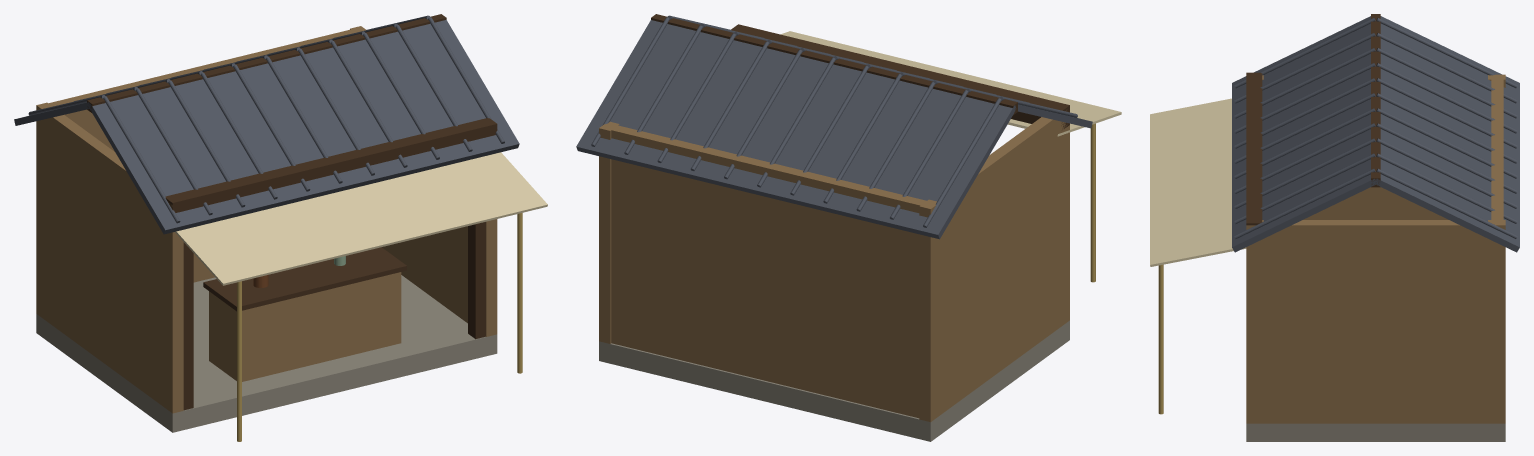
File: shopfront-fabric-awning.glb
3 renders of one model, left to right at view 1: azimuth 30°, elevation 25°; view 2: azimuth 150°, elevation 25°; view 3: azimuth 270°, elevation 25°, orthographic. The views are drawn at different scales.
Visible parts, largest first — view 1: roof_front, side_wall_L, awning, platform, counter, front_beam, side_wall_R, counter_top, back_wall, ridge, post_R, post_L (+14 smaller); view 2: back_wall, roof_back, side_wall_L, platform, front_beam, awning, side_wall_R, ridge, awning_pole_L, tile_rib_B, tile_rib_B.006, tile_rib_B.007 (+9 smaller); view 3: side_wall_R, roof_back, roof_front, awning, platform, side_wall_L, front_beam, back_wall, ridge, awning_pole_R, tile_rib_B.010, tile_rib_F.010 (+20 smaller).
Boxes of the visible parts, box(x1,y1,x2,y2) form: roof_front: box(88, 20, 519, 234); side_wall_L: box(36, 102, 183, 413); awning: box(175, 152, 547, 285); platform: box(36, 275, 497, 432); counter: box(209, 272, 401, 381); front_beam: box(165, 118, 497, 212); side_wall_R: box(350, 26, 497, 336); counter_top: box(203, 247, 406, 311); back_wall: box(37, 29, 355, 318); ridge: box(87, 14, 446, 112); post_R: box(468, 222, 485, 339); post_L: box(183, 242, 193, 410); back_wall: box(611, 125, 938, 420); roof_back: box(576, 20, 1016, 239); side_wall_L: box(919, 110, 1069, 422); platform: box(599, 320, 1069, 441); front_beam: box(731, 24, 1069, 129); awning: box(780, 31, 1121, 136); side_wall_R: box(599, 121, 619, 343); ridge: box(651, 14, 1017, 115); awning_pole_L: box(1090, 123, 1095, 282); tile_rib_B: box(923, 98, 1001, 227); tile_rib_B.006: box(724, 49, 802, 179); tile_rib_B.007: box(690, 41, 769, 170); side_wall_R: box(1246, 220, 1505, 423); roof_back: box(1374, 16, 1519, 252); roof_front: box(1232, 16, 1377, 252); awning: box(1150, 98, 1246, 266); platform: box(1246, 423, 1505, 441); side_wall_L: box(1262, 74, 1505, 219); front_beam: box(1246, 72, 1262, 225); back_wall: box(1491, 79, 1503, 219); ridge: box(1371, 14, 1380, 187); awning_pole_R: box(1158, 264, 1163, 414); tile_rib_B.010: box(1376, 168, 1517, 238); tile_rib_F.010: box(1234, 168, 1375, 238).
Bounding box in the file's own units: 4.8 × 3.72 × 4.56.
